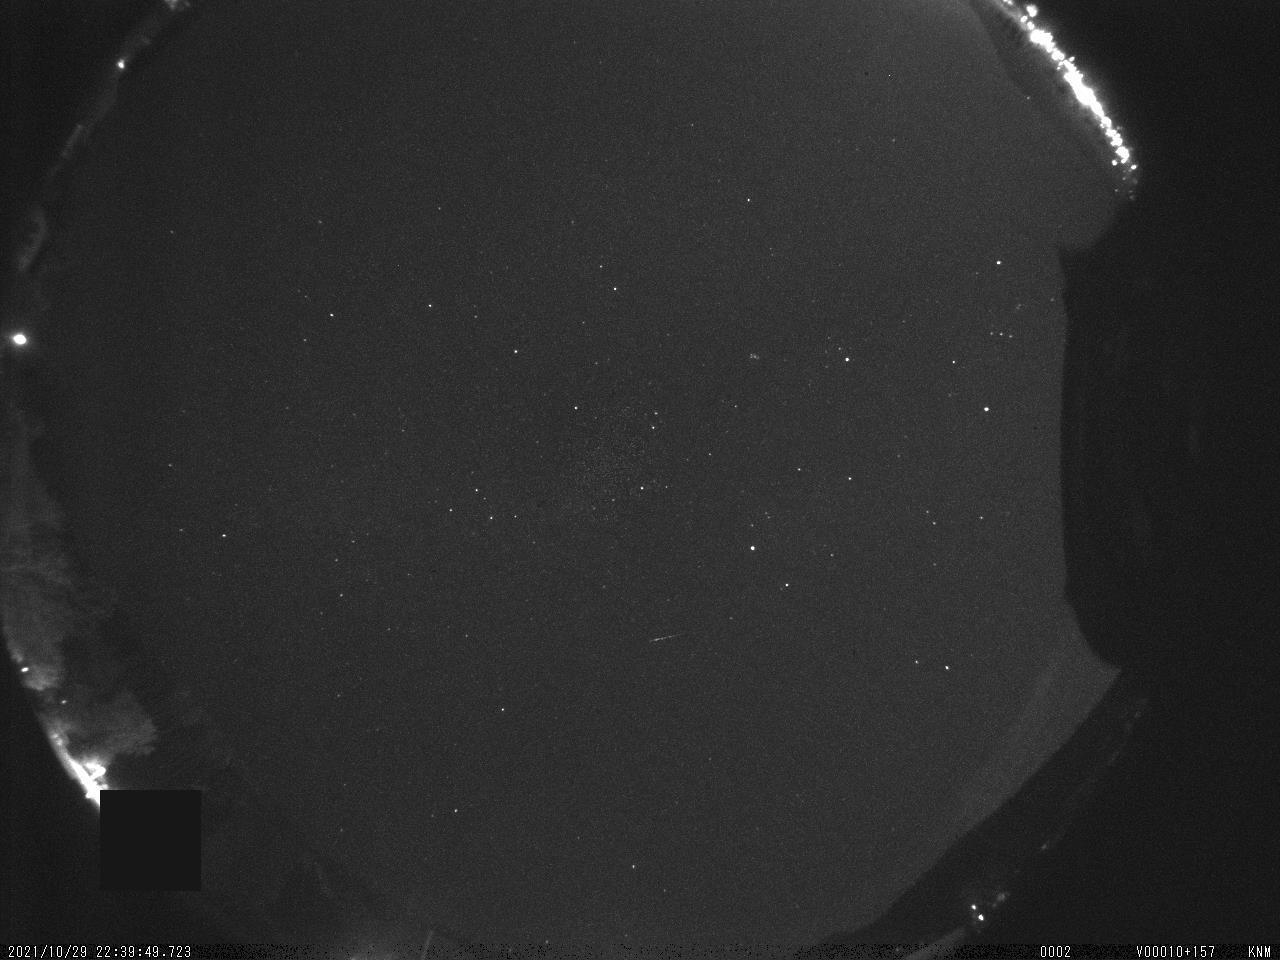Meteor: (644, 627, 684, 648)
